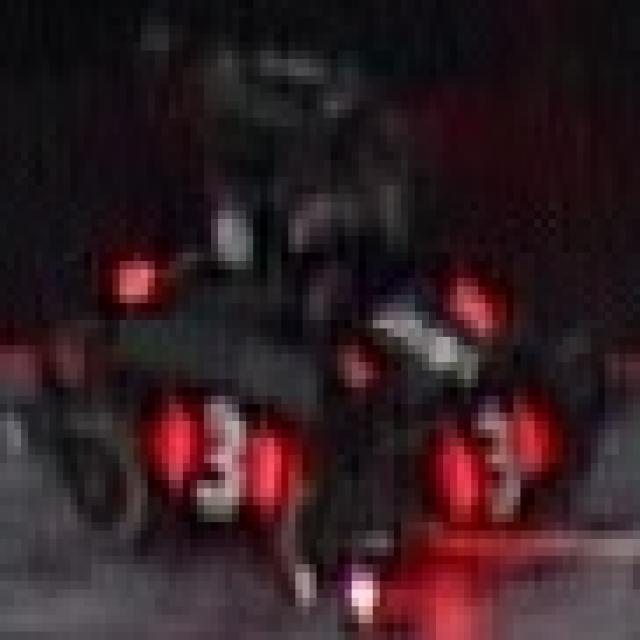R3: (330, 252, 507, 396), (148, 379, 288, 522), (422, 379, 549, 514)
